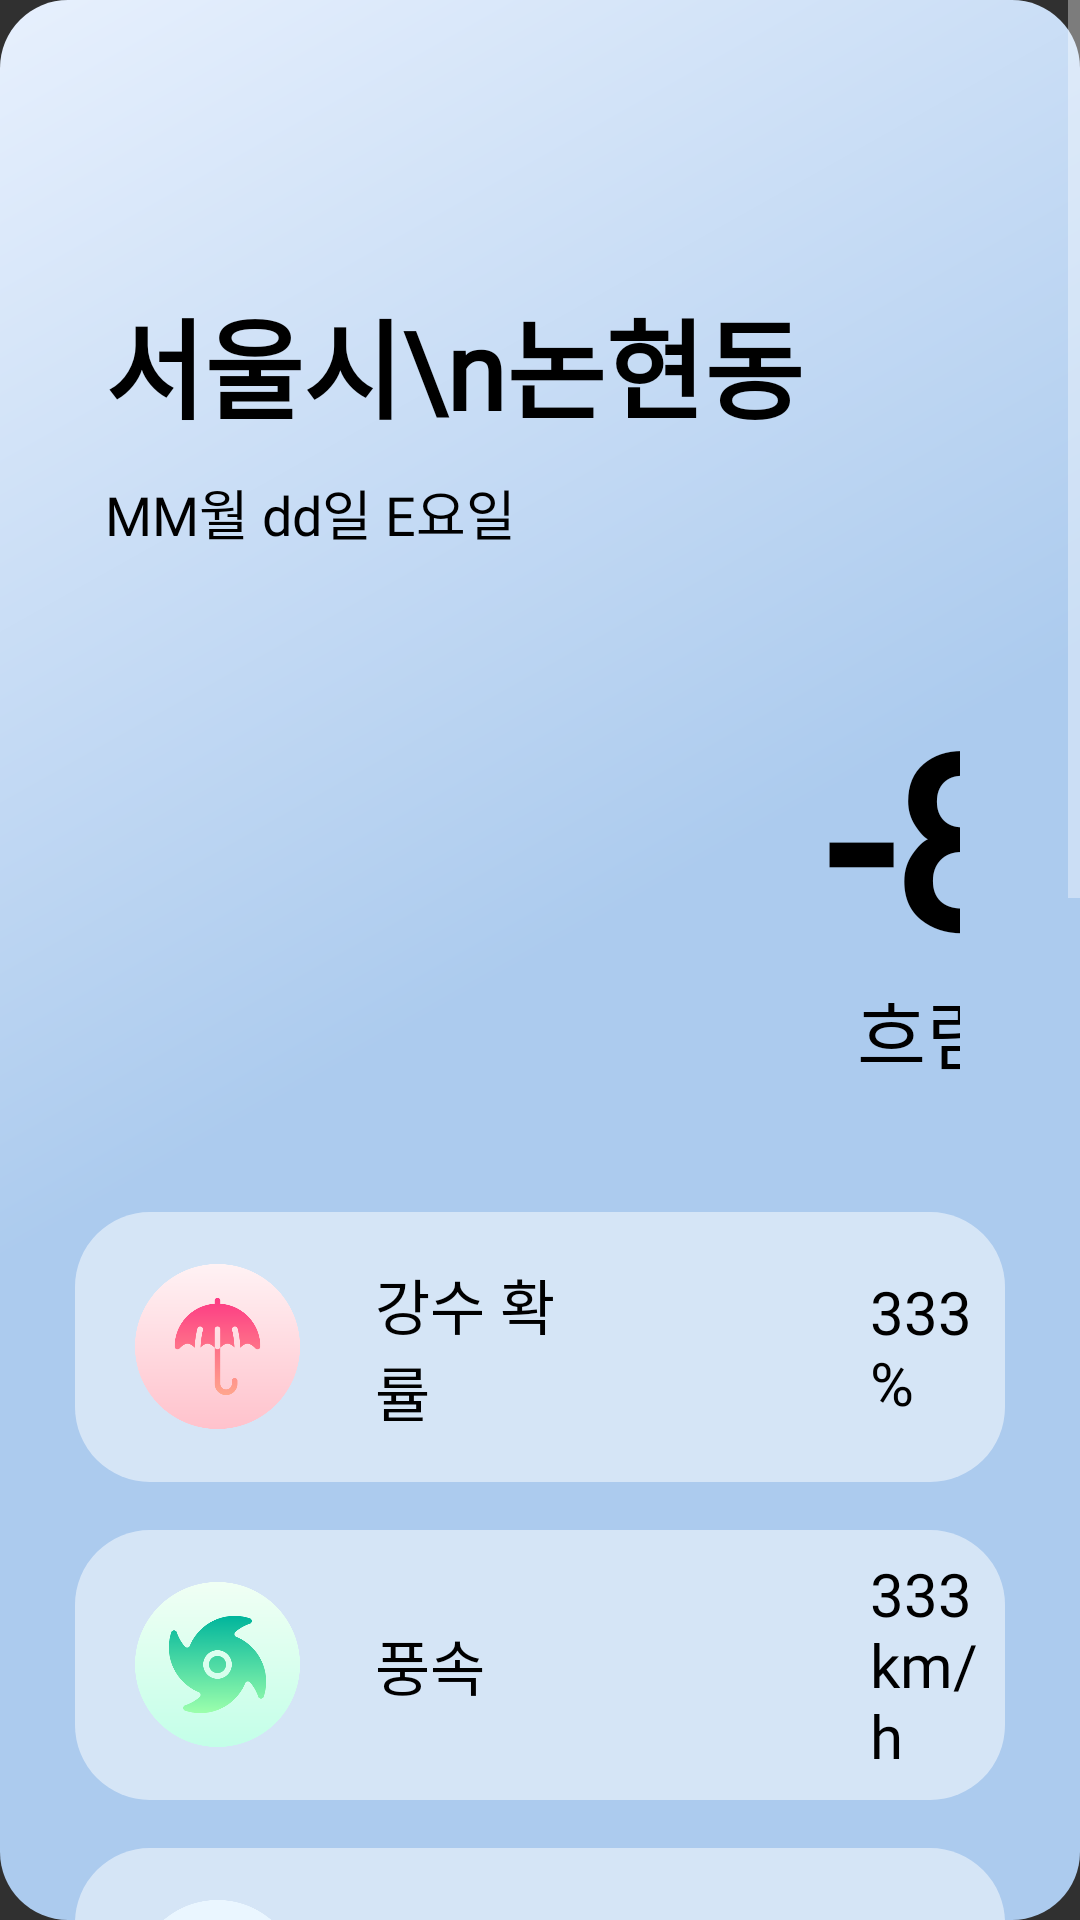

Screen size 1080*1920. Icon name, then its center in pixels as point (x, y):
rainfall: point (217, 1346)
windspeed: point (217, 1664)
